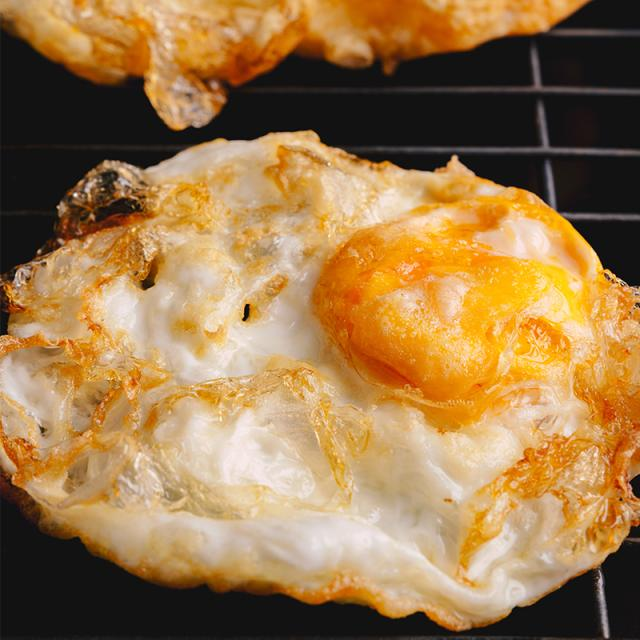Egg: (0, 131, 640, 629)
